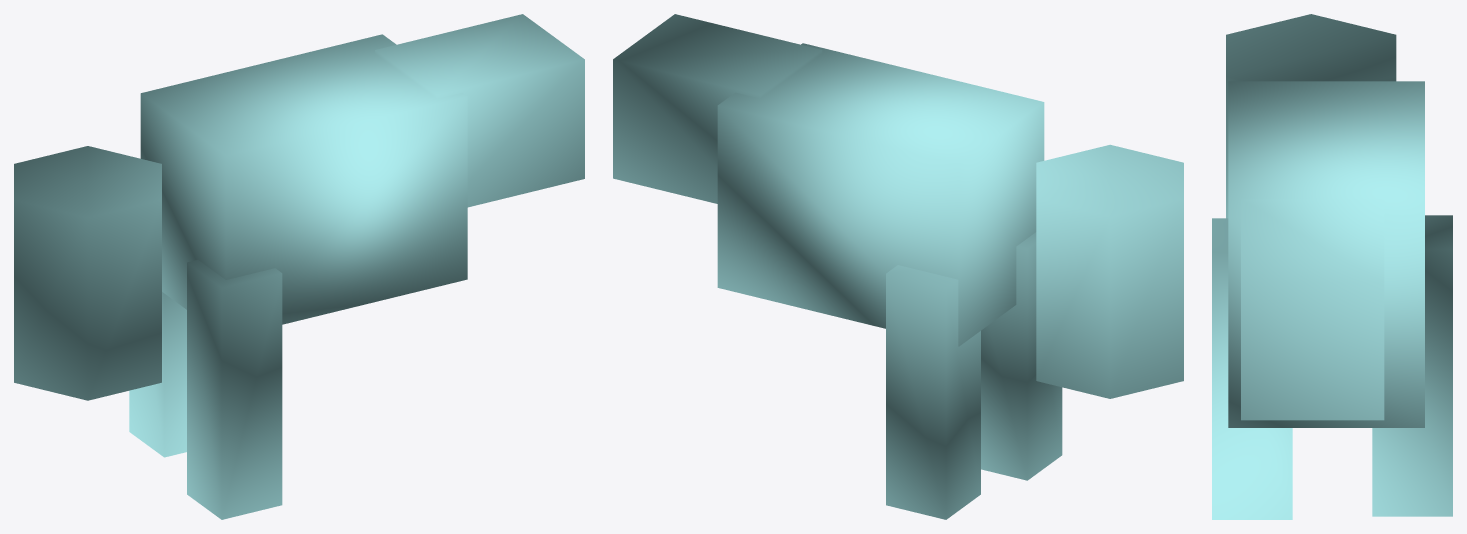
The model's file is ps2_jrpg_basilisk_serpent_enemy.obj.
3 views of the same model, side by side, from view 1: azimuth 30°, elevation 25°; view 2: azimuth 150°, elevation 25°; view 3: azimuth 270°, elevation 25° (orthographic). The views are drawn at different scales.
Size of the model in its own units: 1.61 by 1.02 by 0.5383.
